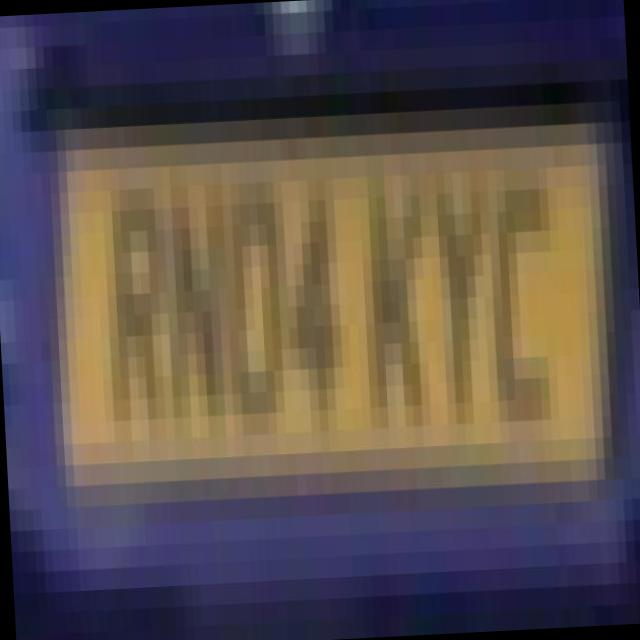LicensePlate: (32, 54, 624, 530)
